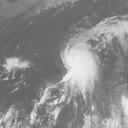cyclone: (62, 42, 95, 88)
